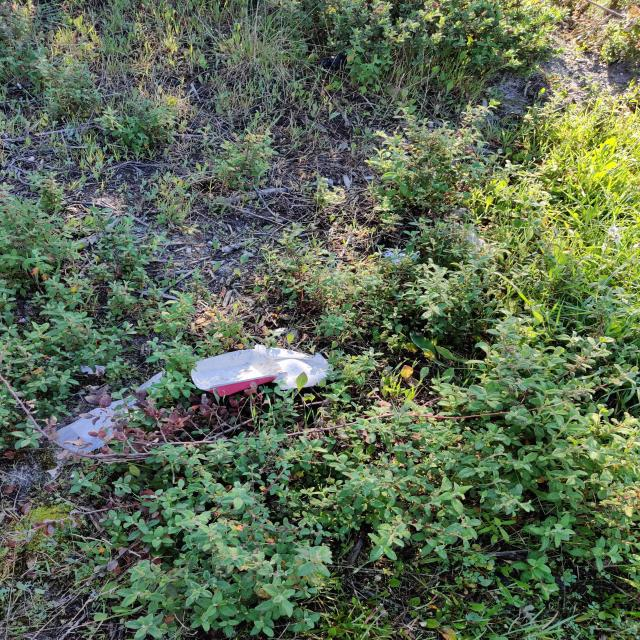litter: (194, 343, 330, 395)
